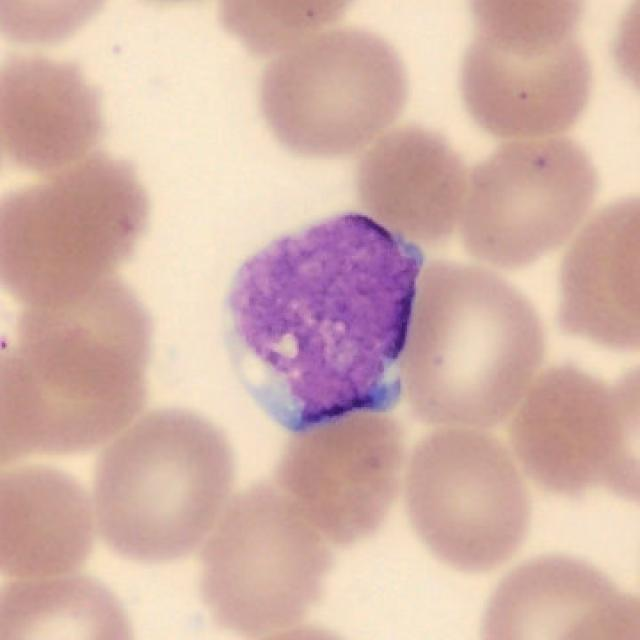Linfocito: (222, 215, 425, 434)
